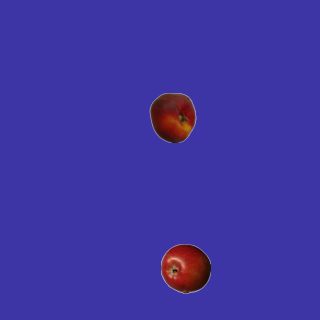Apple Braeburn: (160, 243, 210, 293)
Nectarine Flat: (147, 92, 197, 142)
